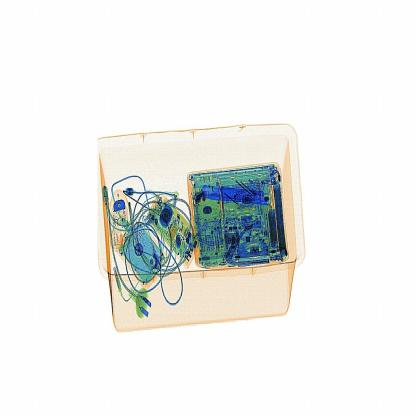pliers: (198, 173, 277, 219)
